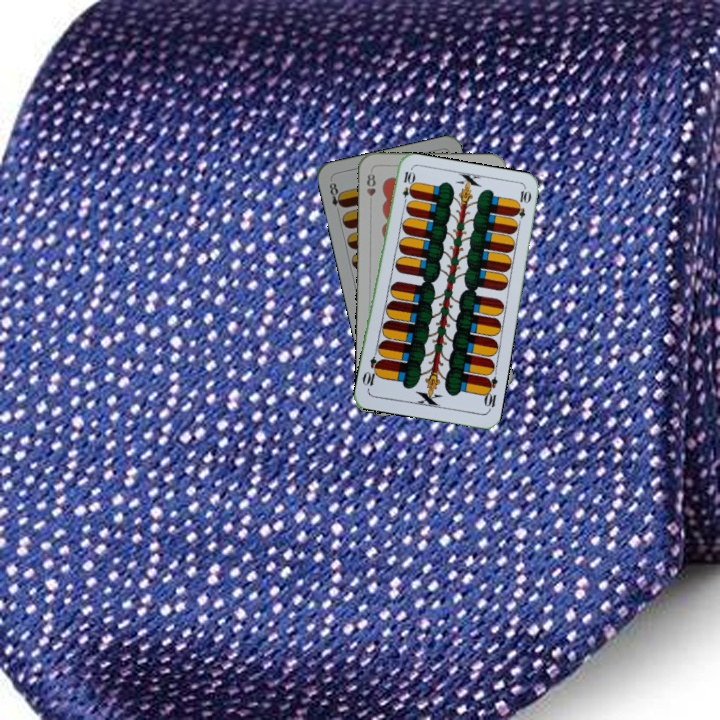E10: (480, 373, 500, 414), (398, 167, 415, 208)
E8: (325, 176, 346, 217)
H8: (363, 169, 378, 207)
